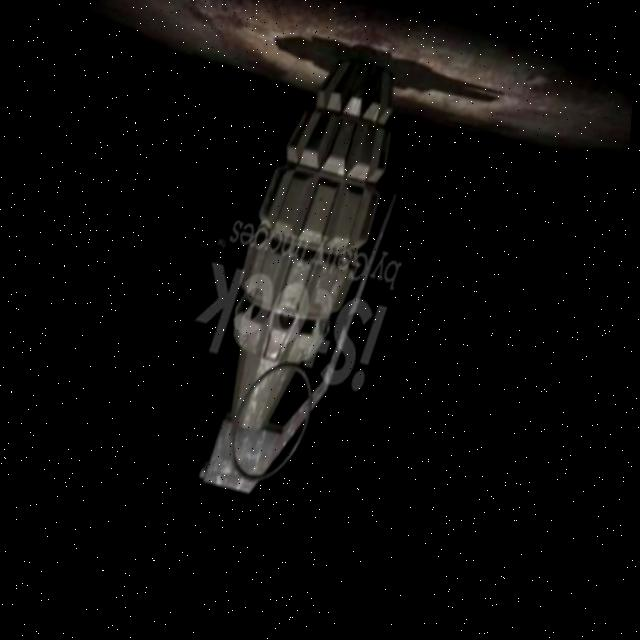grenade: (172, 44, 440, 519)
